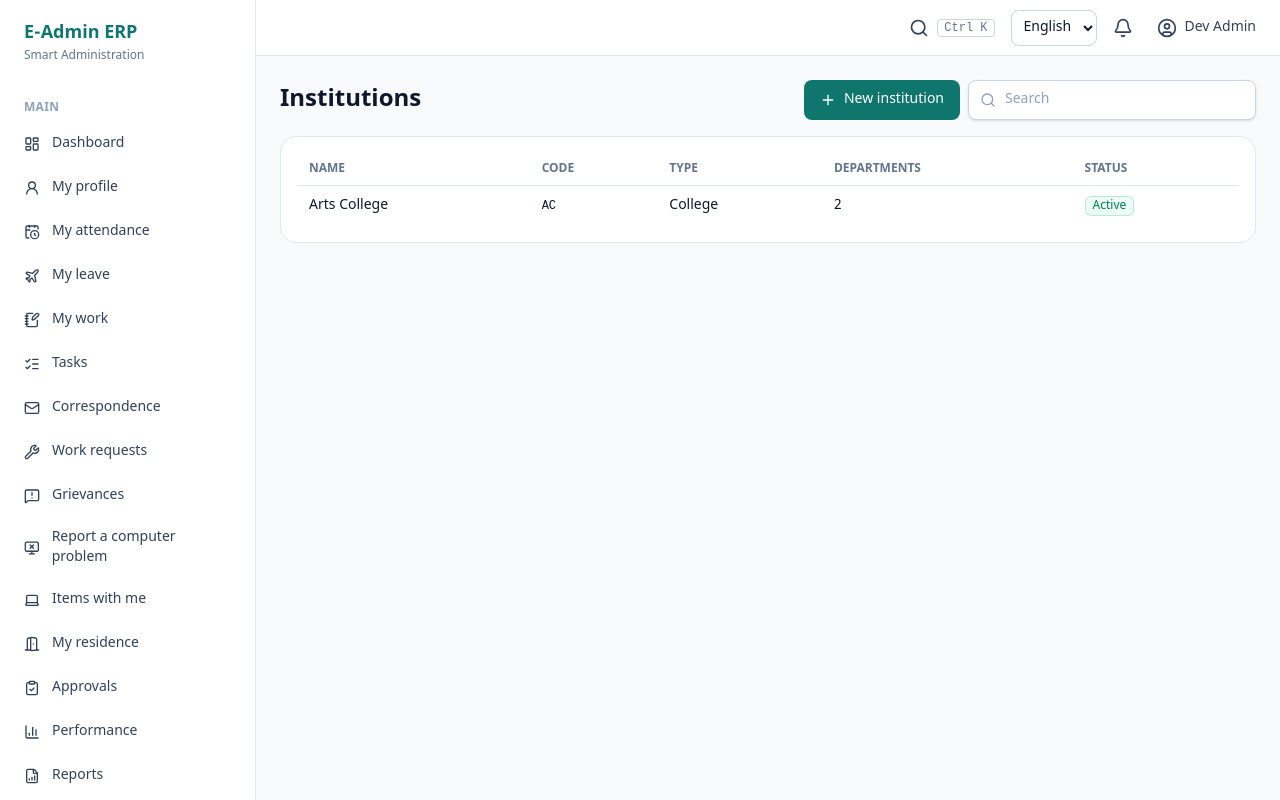
Test case: institution management › creates an institution and shows server validation on the field
The width and height of the screenshot is (1280, 800).
Step 1. Click the button "New institution" → (882,100), box [804,80,960,120]
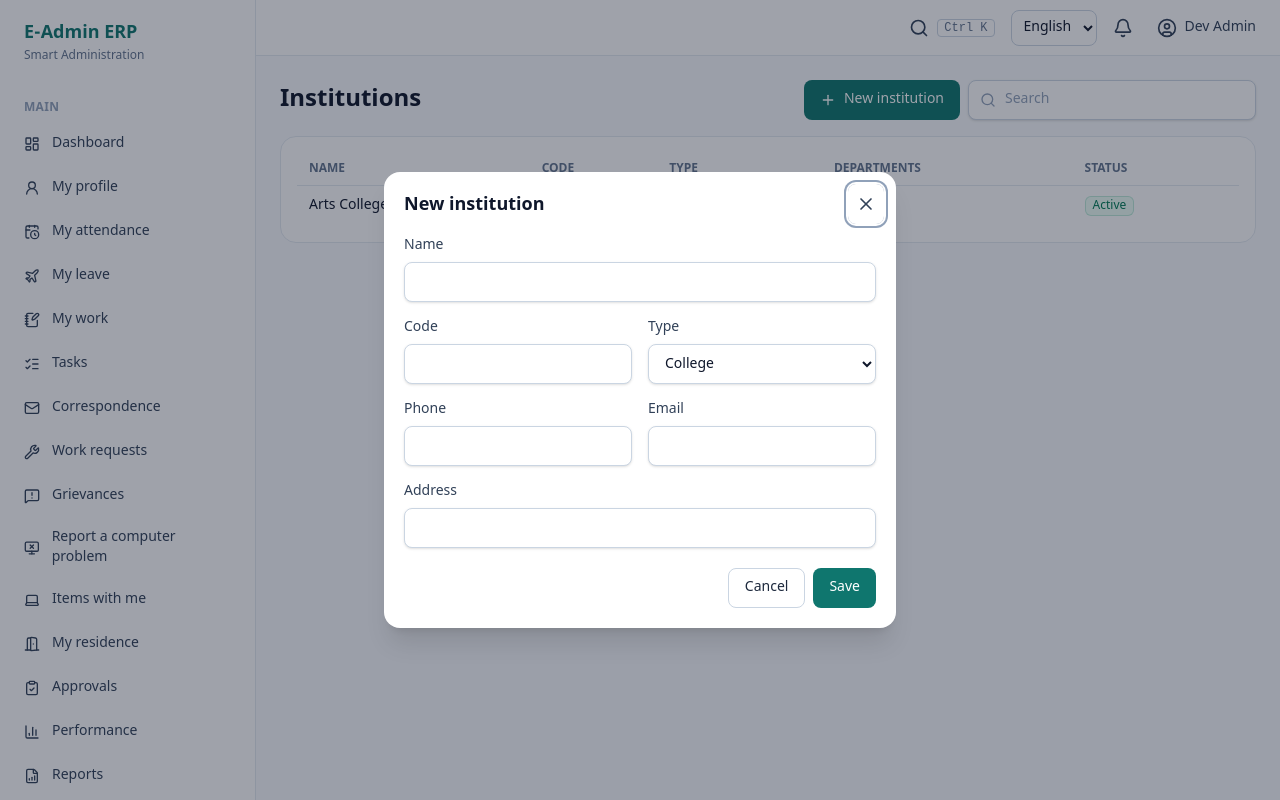
Step 2. Type "Science College" into the field labelled "Name" → (640,282), box [404,262,876,302]
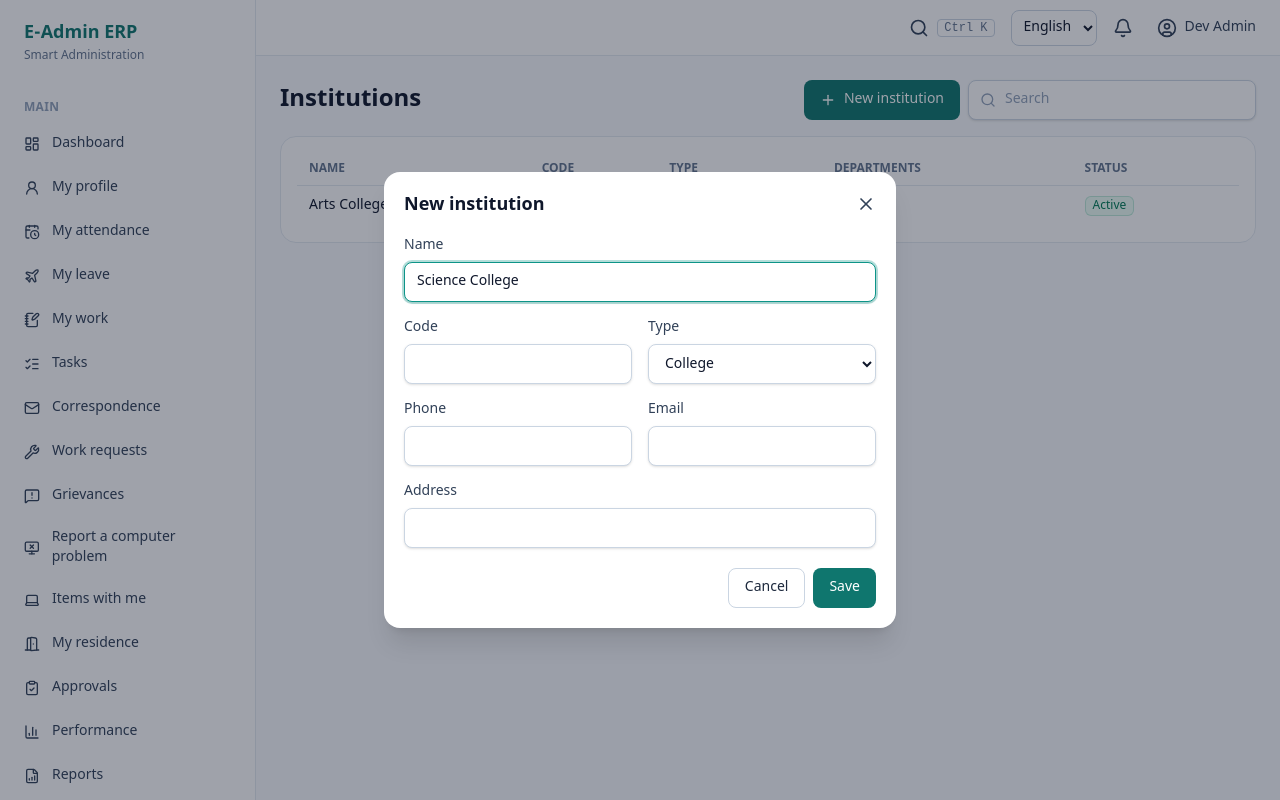
Step 3. Type "AC" into the field labelled "Code" → (518,364), box [404,344,632,384]
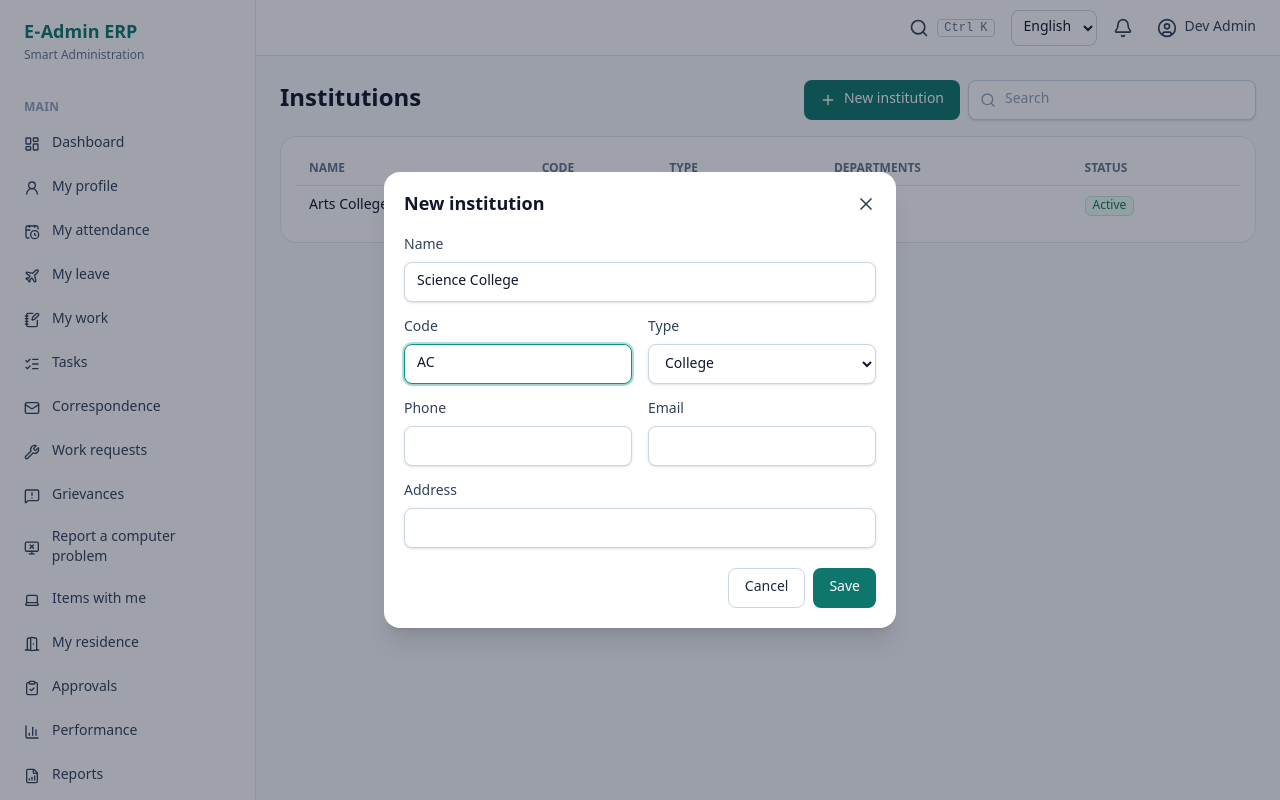
Step 4. Click the button "Save" → (845,588), box [813,568,876,608]
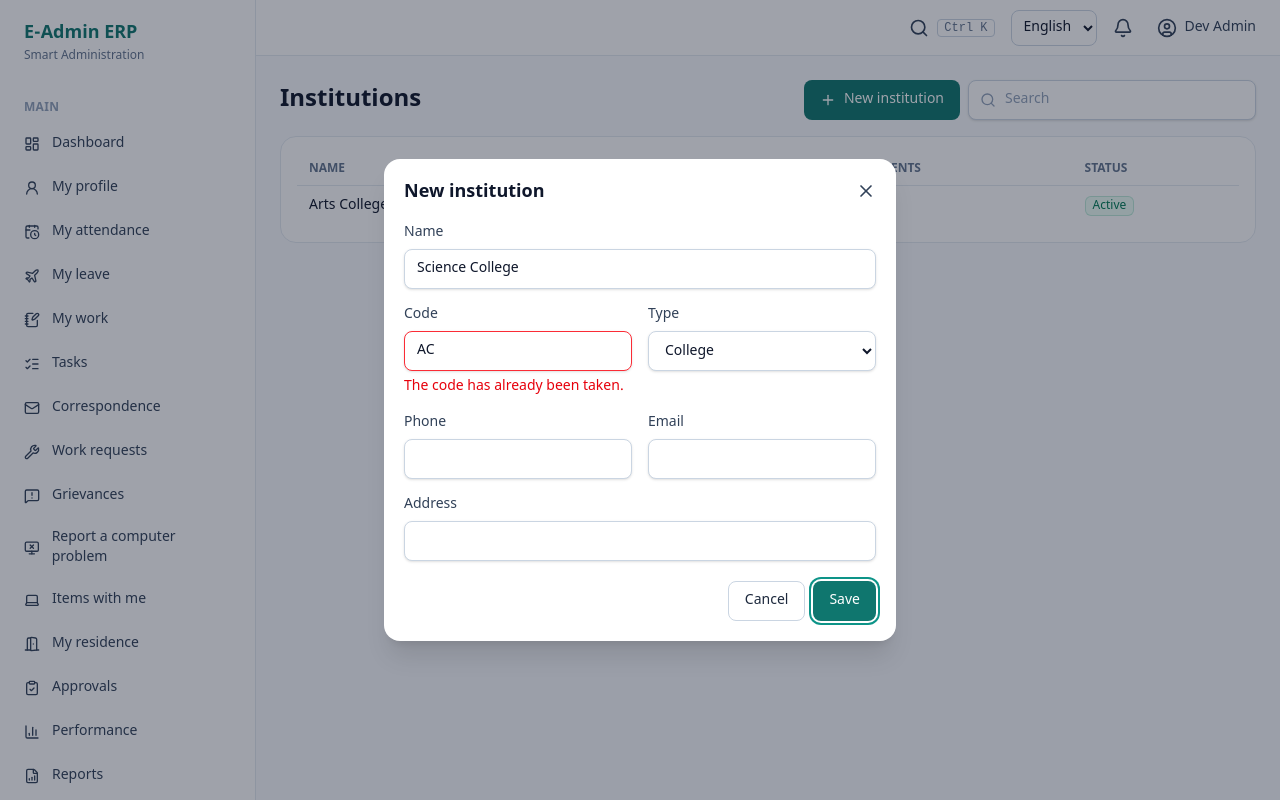
Now the text "The code has already been taken." is shown, box [404,377,632,397]
Step 5. Replace the text in the field labelled "Code" with "SC" → (518,351), box [404,331,632,371]
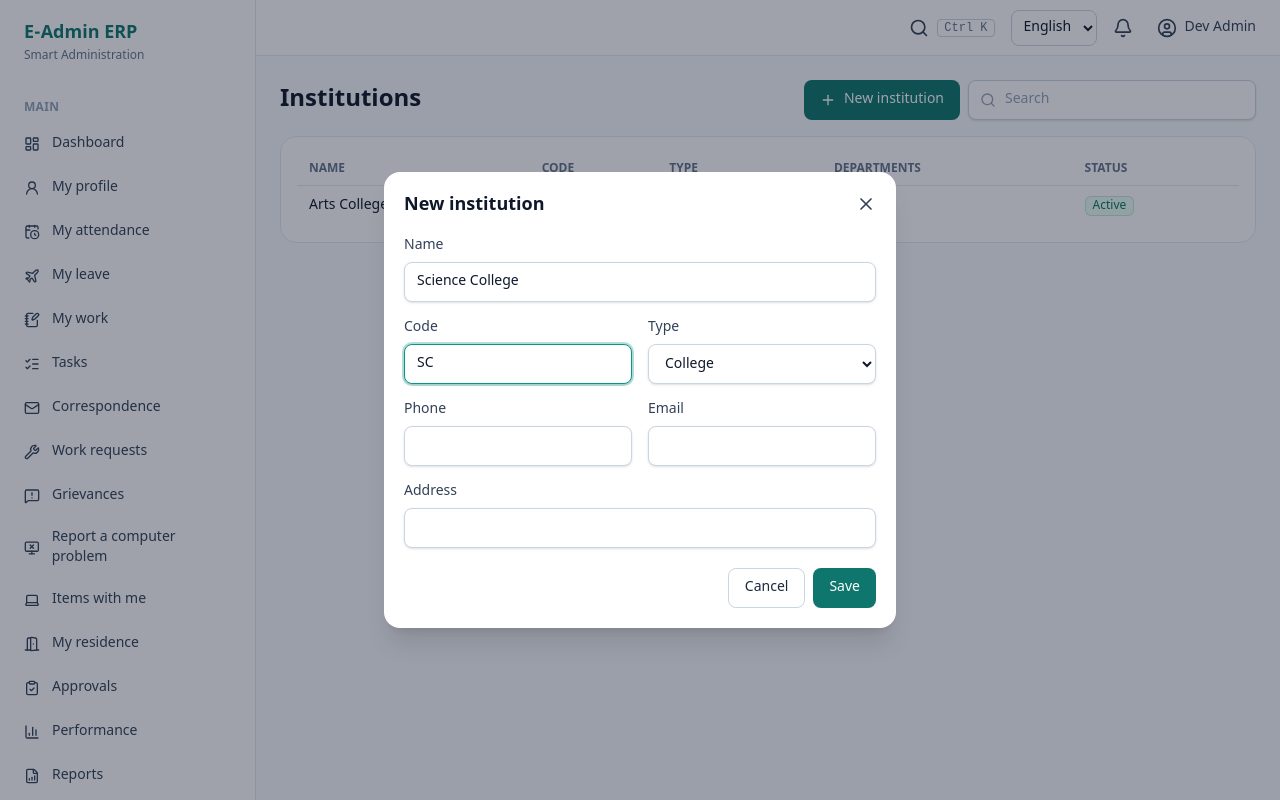
Step 6. Click the button "Save" → (845,588), box [813,568,876,608]
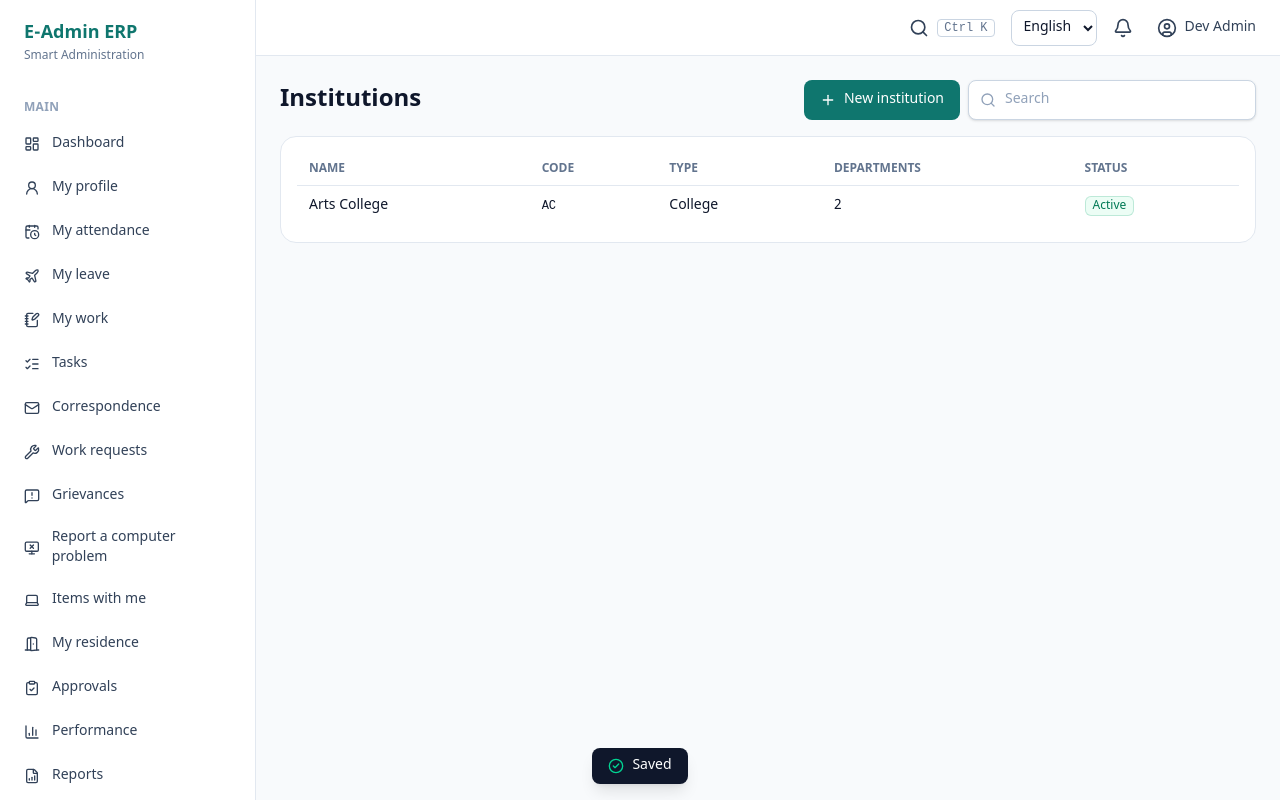
Now the dialog is gone
Now the text "Saved" is shown, box [592,748,688,784]
